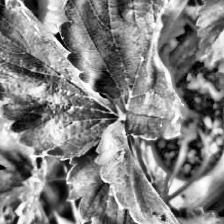Powdery Mildew Leaf: (58, 0, 206, 141), (65, 120, 213, 224)
